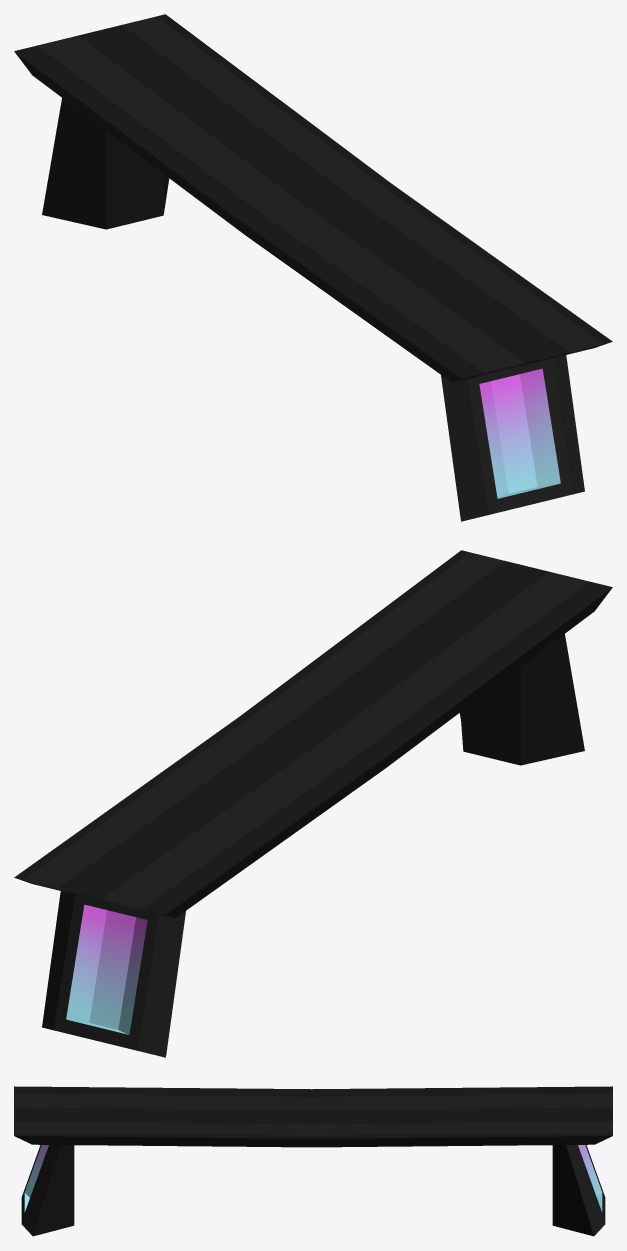
Rendered from bench_02.fbx.
The picture shows the model from 3 angles, top to bottom: view 1: azimuth 30°, elevation 25°; view 2: azimuth 150°, elevation 25°; view 3: azimuth 270°, elevation 25°; orthographic projection. The views are drawn at different scales.
Visible parts, largest first — view 1: pCube21; view 2: pCube21; view 3: pCube21.
Part boxes in pixels (bbox=[...]): pCube21: bbox=[14, 14, 612, 521]; pCube21: bbox=[14, 550, 612, 1057]; pCube21: bbox=[14, 1086, 612, 1236].
Bounding box in the file's own units: 7.43 × 7.35 × 37.99.
1 material, 1 textured.
